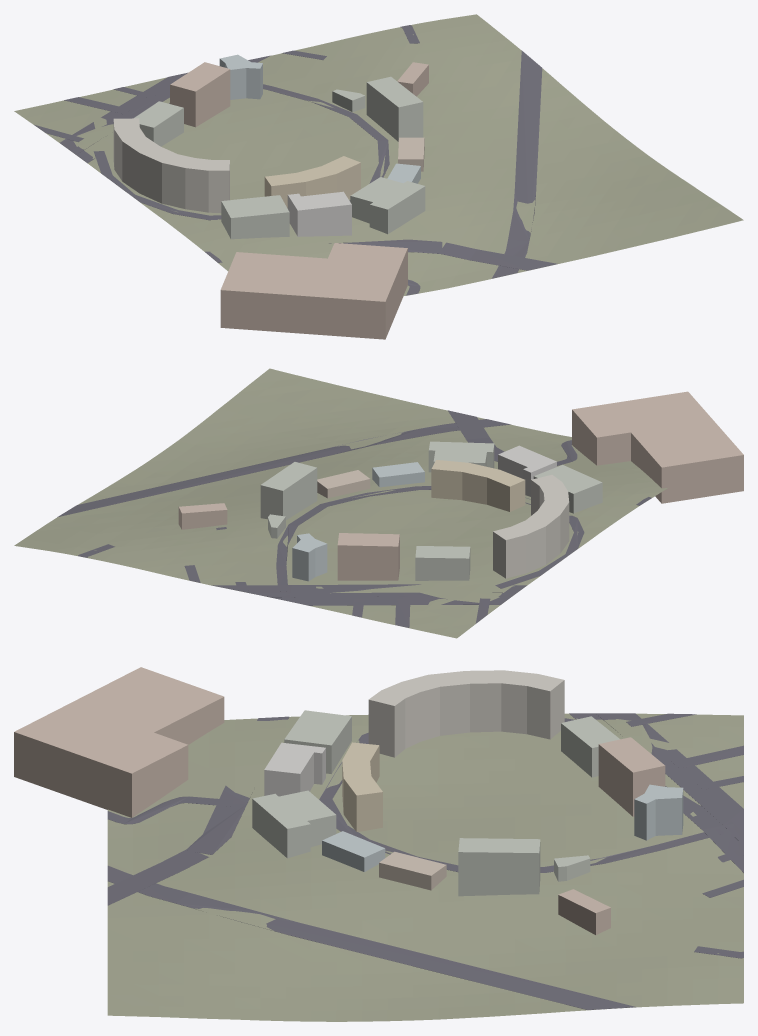
File: chunk_1_7.glb
3 renders of one model, top to bottom at view 1: azimuth 30°, elevation 25°; view 2: azimuth 150°, elevation 25°; view 3: azimuth 270°, elevation 25°, orthographic. The views are drawn at different scales.
Visible parts, largest first — view 1: geometry_14, geometry_7, geometry_0, geometry_20, geometry_12, geometry_4, geometry_3, geometry_11, geometry_5, geometry_8, geometry_22, geometry_1 (+8 smaller); view 2: geometry_14, geometry_7, geometry_0, geometry_11, geometry_20, geometry_4, geometry_3, geometry_22, geometry_19, geometry_1, geometry_18, geometry_5 (+7 smaller); view 3: geometry_14, geometry_7, geometry_0, geometry_20, geometry_3, geometry_12, geometry_4, geometry_11, geometry_19, geometry_8, geometry_10, geometry_5 (+11 smaller).
Part boxes in pixels (x1,y1,x2,y2): geometry_14: (14,14,743,296); geometry_7: (220,243,407,339); geometry_0: (113,118,229,213); geometry_20: (492,50,542,278); geometry_12: (350,177,425,234); geometry_4: (170,62,230,127); geometry_3: (366,76,423,141); geometry_11: (264,156,360,207); geometry_5: (221,195,289,239); geometry_8: (287,191,351,236); geometry_22: (93,84,389,220); geometry_1: (134,101,183,146); geometry_14: (14,368,667,638); geometry_7: (572,391,743,503); geometry_0: (493,475,569,578); geometry_11: (431,460,525,511); geometry_20: (57,419,510,517); geometry_4: (337,533,399,580); geometry_3: (260,462,317,519); geometry_22: (276,486,584,591); geometry_19: (252,592,515,605); geometry_1: (415,546,470,580); geometry_18: (212,584,526,597); geometry_5: (533,465,602,513); geometry_14: (107,713,743,1021); geometry_7: (14,667,224,817); geometry_0: (368,670,564,757); geometry_20: (107,865,636,1009); geometry_3: (458,838,540,896); geometry_12: (252,790,336,858); geometry_4: (598,737,665,816); geometry_11: (342,742,382,831); geometry_19: (596,713,743,845); geometry_8: (264,742,325,796); geometry_10: (634,784,683,840); geometry_5: (284,710,351,773).
Bounding box in the file's own units: 275 × 37.78 × 287.
